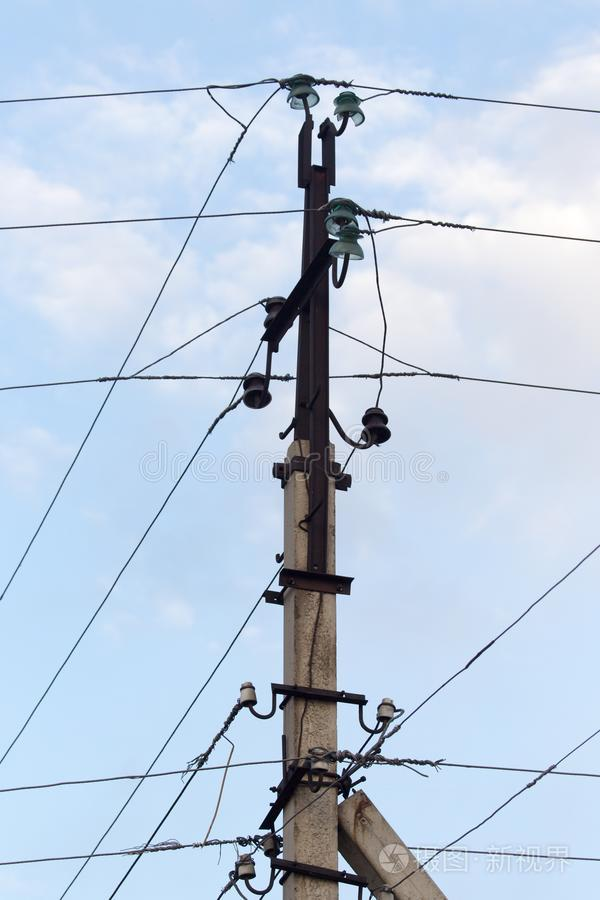insulator: (356, 404, 395, 450), (285, 71, 325, 110), (330, 228, 370, 265), (331, 92, 368, 130), (242, 373, 276, 414), (264, 292, 295, 333), (326, 201, 365, 233)
